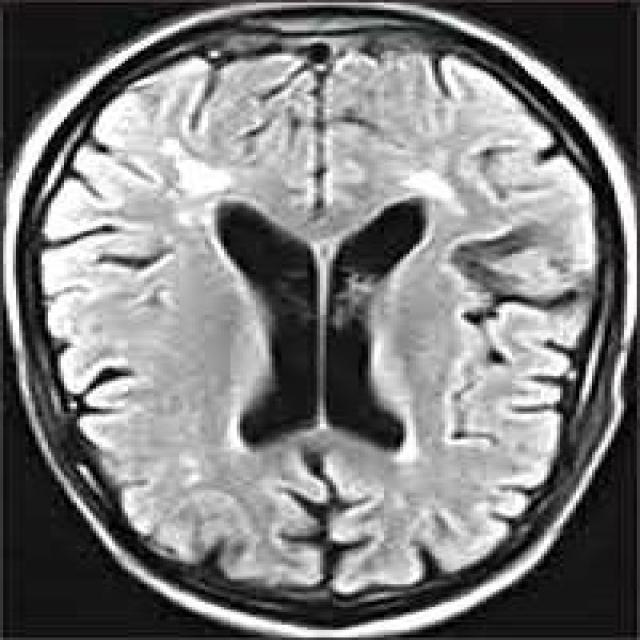notumor: (6, 3, 637, 637)
